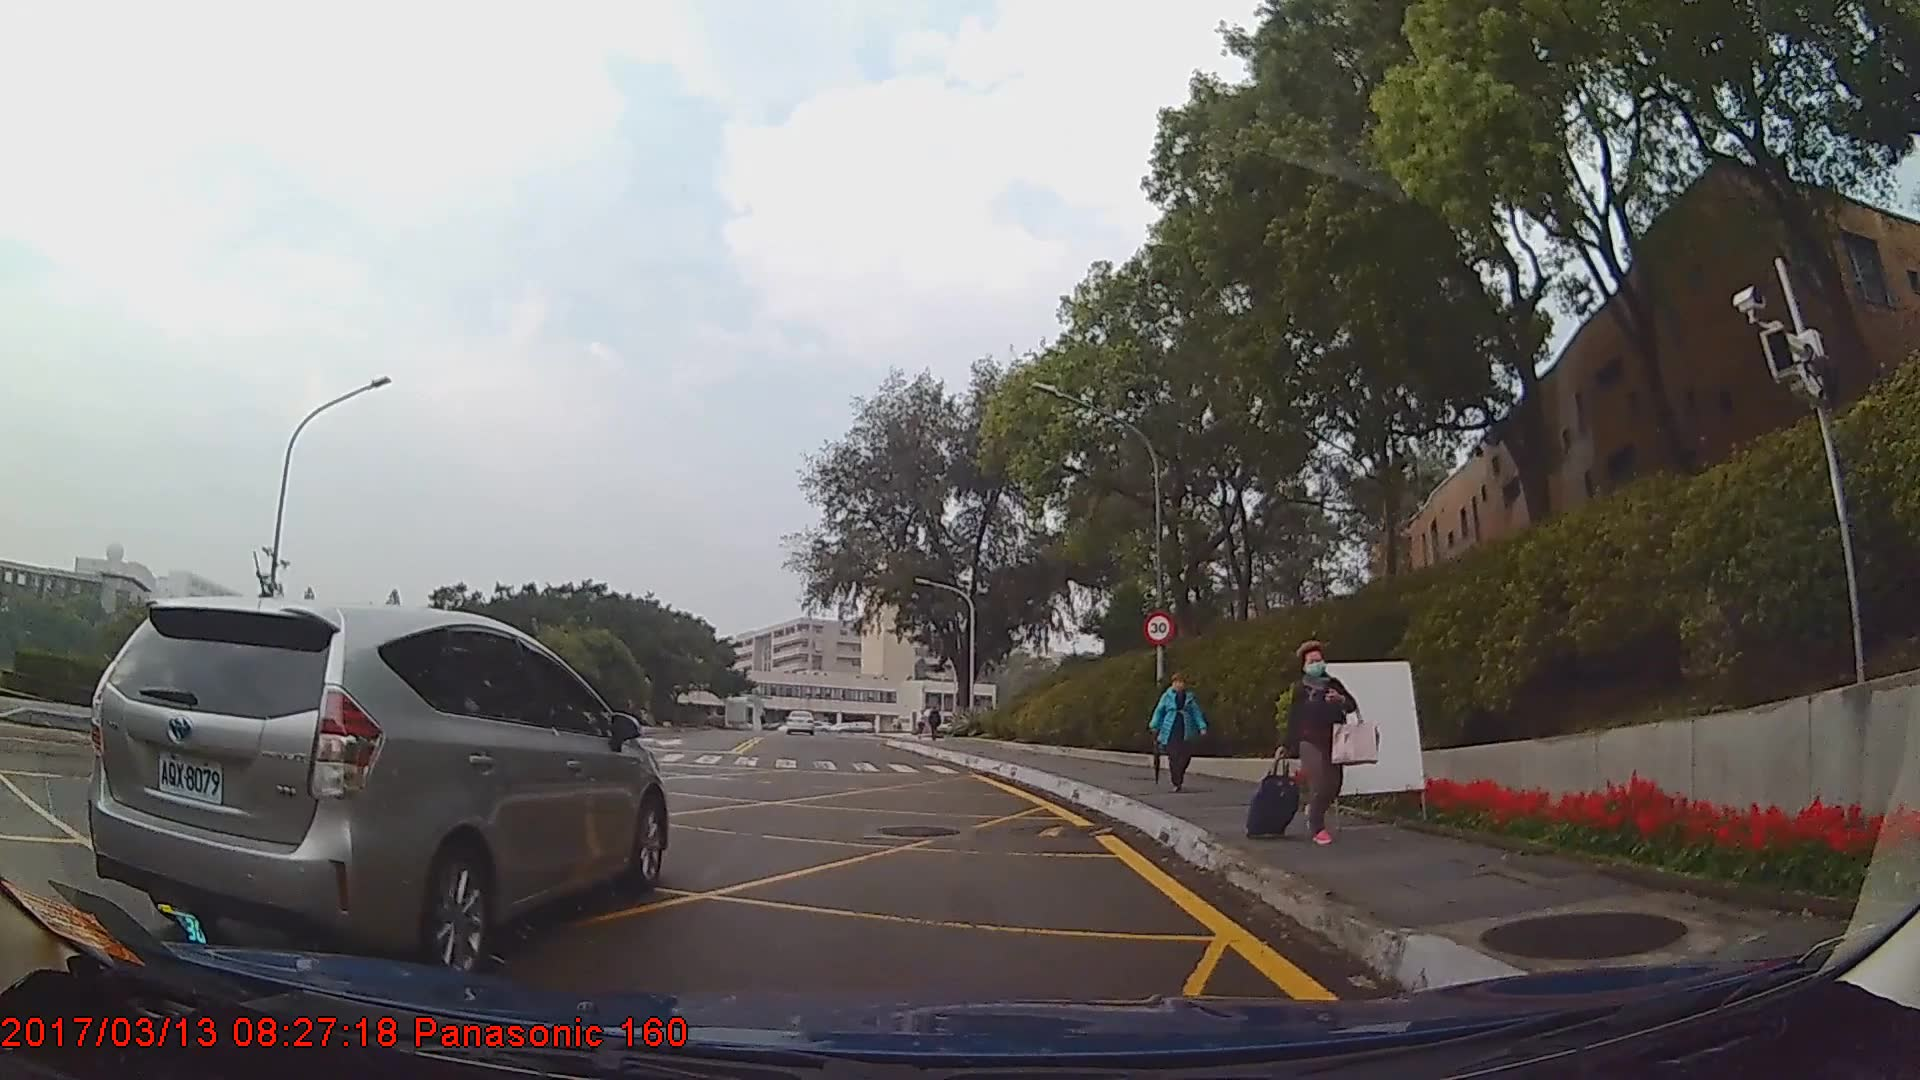pedestrian: (1246, 638, 1373, 840), (1147, 673, 1209, 794)
vehicle: (89, 594, 669, 970), (784, 706, 817, 734)
